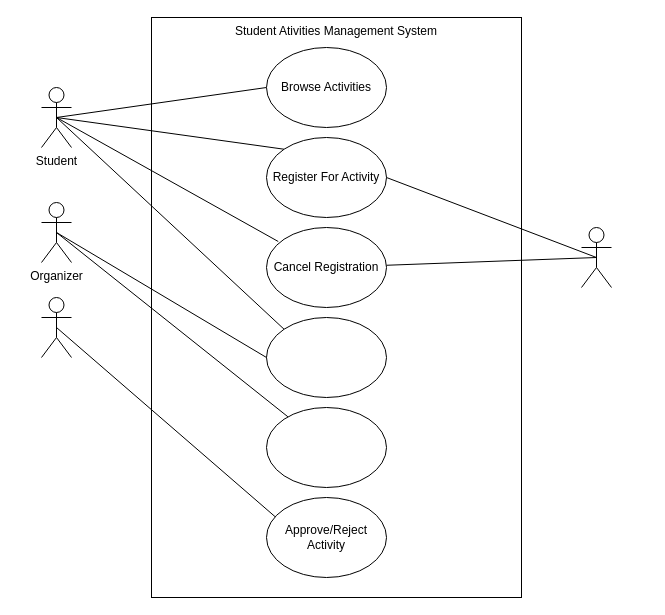
Some shapes in this 665 by 615 pixel diagram are drawn without their labels. Each missing label, with the centre of its shape:
"Check-in with QR Code" goes at pixel 326 357.
"Create Activity Proposal" goes at pixel 326 447.
"Notification System" goes at pixel 596 257.
"Student Affairs" goes at pixel 56 327.
